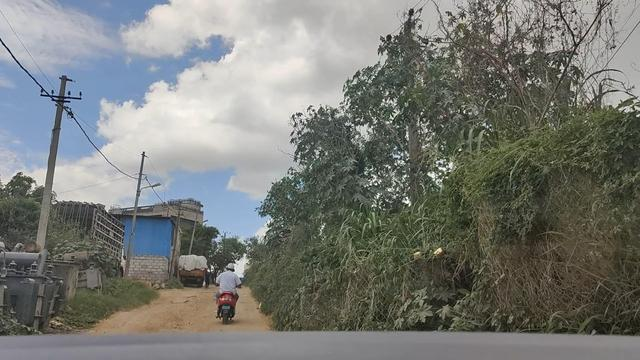HMV: (175, 253, 209, 292)
UnsurfacedRoad: (124, 292, 219, 334)
